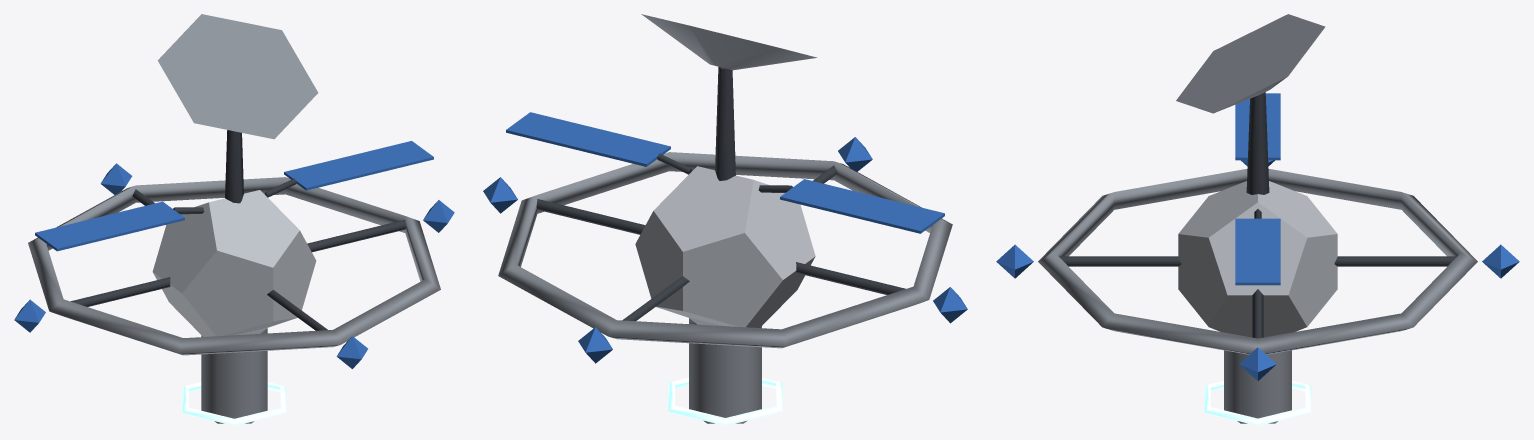
The model's file is ResearchLab.glb.
3 views of the same model, side by side, from view 1: azimuth 30°, elevation 25°; view 2: azimuth 150°, elevation 25°; view 3: azimuth 270°, elevation 25° (orthographic). The views are drawn at different scales.
Parts seen in each view (by area): view 1: lab_core, observation_ring, deep_space_dish, lab_module, solar_array_L, solar_array_R, containment_ring, mast, spoke_0, spoke_2, sensor_node_2, sensor_node_0 (+3 smaller); view 2: lab_core, observation_ring, lab_module, solar_array_L, solar_array_R, deep_space_dish, mast, containment_ring, spoke_0, spoke_2, sensor_node_3, sensor_node_0 (+3 smaller); view 3: observation_ring, lab_core, deep_space_dish, lab_module, solar_array_R, mast, solar_array_L, containment_ring, spoke_1, spoke_3, sensor_node_1, sensor_node_3 (+2 smaller).
Part boxes in pixels (bbox=[...]): lab_core: bbox=[152, 190, 316, 336]; observation_ring: bbox=[28, 177, 440, 355]; deep_space_dish: bbox=[157, 14, 318, 139]; lab_module: bbox=[201, 327, 267, 423]; solar_array_L: bbox=[35, 201, 184, 251]; solar_array_R: bbox=[284, 141, 433, 190]; containment_ring: bbox=[182, 382, 286, 425]; mast: bbox=[225, 130, 243, 203]; spoke_0: bbox=[307, 219, 405, 252]; spoke_2: bbox=[70, 277, 170, 306]; sensor_node_2: bbox=[14, 299, 45, 332]; sensor_node_0: bbox=[423, 200, 454, 232]; lab_core: bbox=[635, 166, 815, 327]; observation_ring: bbox=[498, 152, 952, 348]; lab_module: bbox=[689, 317, 761, 423]; solar_array_L: bbox=[780, 179, 944, 233]; solar_array_R: bbox=[506, 112, 670, 166]; deep_space_dish: bbox=[641, 14, 816, 70]; mast: bbox=[715, 66, 735, 180]; containment_ring: bbox=[668, 377, 782, 425]; spoke_0: bbox=[536, 199, 645, 234]; spoke_2: bbox=[796, 262, 905, 294]; sensor_node_3: bbox=[578, 327, 612, 363]; sensor_node_0: bbox=[483, 177, 517, 213]; observation_ring: bbox=[1038, 169, 1477, 354]; lab_core: bbox=[1178, 181, 1337, 337]; deep_space_dish: bbox=[1176, 14, 1325, 113]; lab_module: bbox=[1224, 350, 1291, 423]; solar_array_R: bbox=[1235, 218, 1280, 285]; mast: bbox=[1246, 92, 1269, 194]; solar_array_L: bbox=[1235, 93, 1280, 160]; containment_ring: bbox=[1204, 381, 1311, 425]; spoke_1: bbox=[1059, 256, 1181, 266]; spoke_3: bbox=[1334, 256, 1456, 266]; sensor_node_1: bbox=[996, 244, 1033, 278]; sensor_node_3: bbox=[1482, 244, 1519, 278].
Size of the model in its own units: 276 by 224 by 276.
